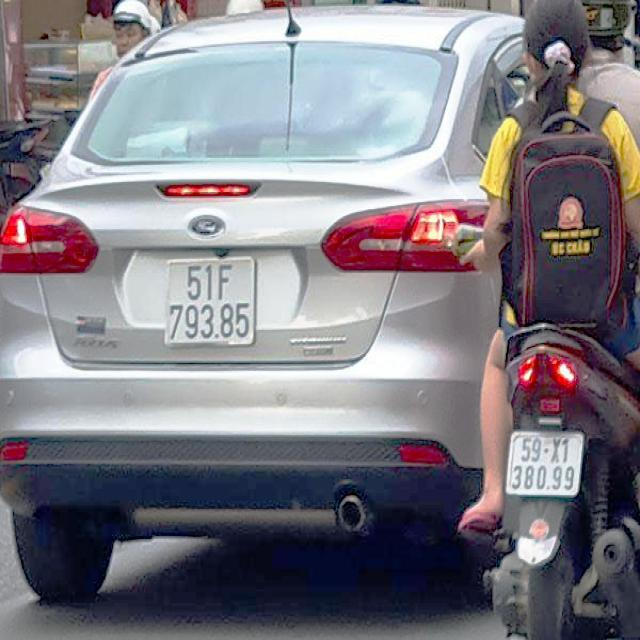license_plate: (165, 259, 258, 349), (508, 433, 583, 497)
